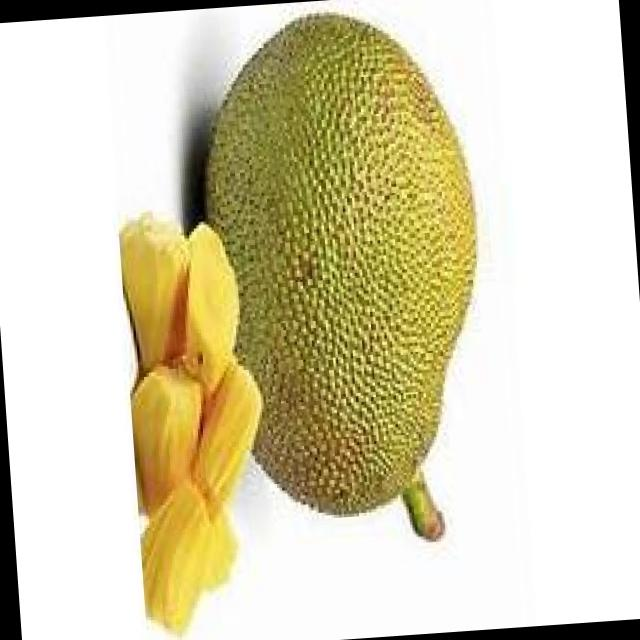Fruit: (160, 0, 512, 412)
